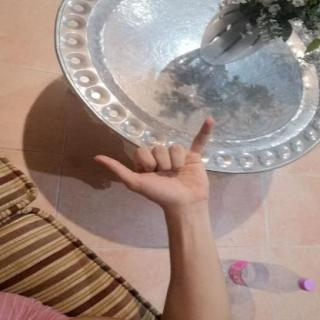YA: (84, 110, 222, 213)
